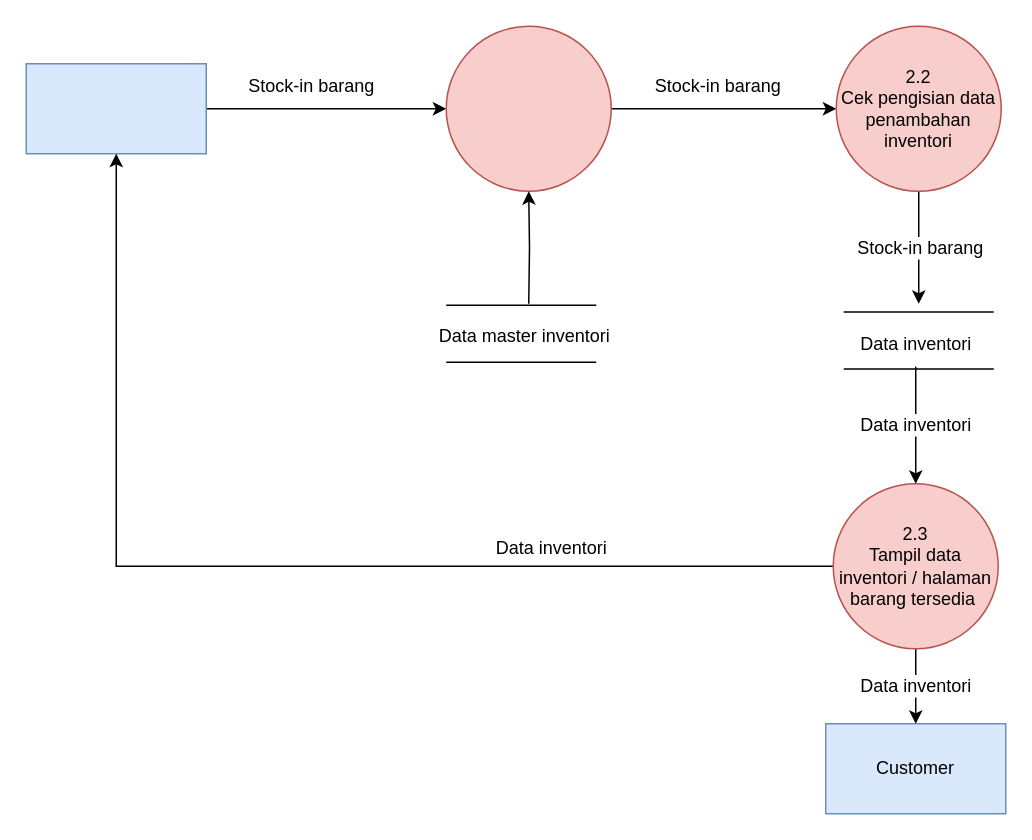
Some shapes in this 1032 by 840 pixel diagram are drawn without their labels. The shapes that lost their labels are listed below. From the top down, each one's box as (x1, y1, x2, y2) in pixels, then its label:
(25, 62, 206, 154): User (Pengelola Warung)
(445, 25, 611, 191): 2.1 Menambahkan jumlah produk (stock-in)
